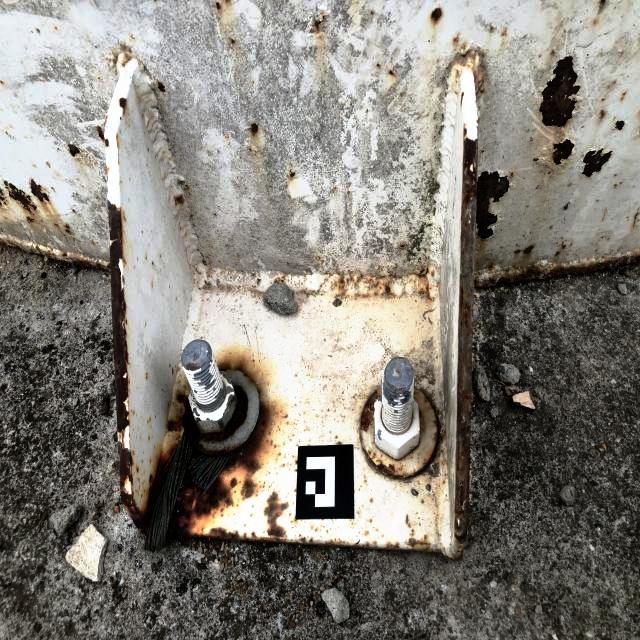Corrosion: (107, 197, 179, 535), (162, 383, 289, 537), (443, 122, 479, 562), (363, 389, 445, 480), (474, 247, 640, 287), (538, 55, 584, 129), (286, 533, 443, 553), (475, 170, 516, 241), (445, 45, 488, 98), (216, 352, 264, 397), (0, 237, 70, 264), (2, 178, 40, 225), (330, 273, 398, 299), (259, 488, 291, 543), (167, 373, 192, 423), (578, 147, 614, 180), (545, 138, 576, 172), (360, 387, 382, 433), (407, 265, 432, 303), (192, 526, 258, 540), (26, 175, 52, 208), (72, 255, 111, 272), (118, 41, 133, 67), (0, 184, 13, 213), (107, 48, 119, 75), (311, 12, 326, 32), (437, 448, 449, 468), (405, 512, 415, 536), (554, 241, 567, 258), (431, 6, 443, 24), (67, 144, 83, 157), (533, 148, 545, 165), (632, 206, 640, 230), (611, 120, 626, 132), (119, 97, 128, 116), (310, 523, 325, 534), (249, 122, 259, 138), (522, 243, 534, 255), (174, 193, 185, 206), (97, 125, 105, 142), (186, 362, 201, 371), (290, 515, 299, 529), (274, 274, 287, 283), (157, 80, 166, 93), (596, 0, 609, 9), (550, 46, 558, 60), (5, 130, 16, 140), (288, 167, 296, 179), (64, 223, 72, 235), (601, 207, 607, 222), (460, 91, 465, 108), (620, 91, 627, 102), (600, 109, 606, 121), (614, 181, 623, 189), (489, 23, 496, 33), (453, 34, 460, 44), (104, 114, 109, 127), (389, 68, 396, 77), (633, 128, 640, 137), (513, 248, 522, 255), (215, 1, 221, 11), (501, 29, 507, 39), (45, 159, 51, 168), (564, 202, 570, 211), (116, 133, 119, 149), (230, 38, 236, 44), (105, 139, 109, 148), (257, 278, 262, 285), (196, 268, 201, 275), (176, 366, 181, 373), (53, 223, 60, 228), (399, 244, 405, 249), (376, 63, 382, 68), (225, 0, 232, 4), (72, 208, 77, 213), (529, 137, 534, 142), (49, 185, 54, 190), (400, 244, 406, 248), (171, 367, 174, 375), (145, 372, 148, 380), (337, 441, 343, 445), (294, 459, 298, 465), (366, 519, 372, 523), (365, 529, 369, 535), (106, 165, 109, 173), (462, 43, 466, 49), (454, 90, 458, 96), (549, 225, 555, 229), (432, 270, 435, 277), (248, 147, 252, 152), (317, 255, 321, 260), (288, 513, 292, 518), (36, 28, 40, 33), (92, 239, 95, 245), (0, 80, 4, 84), (4, 216, 8, 220), (602, 97, 606, 101), (480, 150, 484, 154), (421, 499, 424, 504), (326, 529, 329, 534), (371, 10, 374, 15), (159, 254, 162, 259), (594, 19, 597, 24), (335, 435, 338, 439), (282, 464, 285, 468), (119, 116, 122, 120), (455, 80, 458, 84), (570, 243, 573, 247), (444, 473, 447, 477), (476, 119, 478, 125), (76, 193, 79, 196), (57, 147, 60, 150), (443, 480, 445, 484), (294, 488, 296, 492), (152, 261, 154, 265), (153, 0, 157, 2), (89, 156, 91, 160), (118, 159, 119, 166), (169, 364, 171, 367), (180, 227, 182, 230), (252, 80, 254, 83), (55, 26, 57, 29), (455, 175, 456, 181), (428, 40, 430, 42), (615, 174, 617, 176), (146, 257, 147, 260)
